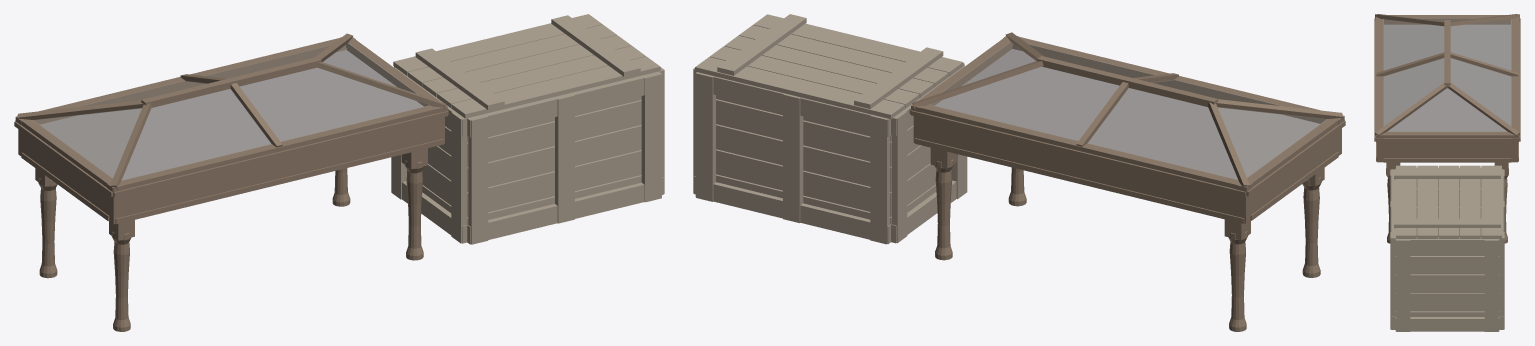
File: hp-crate-and-display-case.glb
3 views of the same model, side by side, from view 1: azimuth 30°, elevation 25°; view 2: azimuth 150°, elevation 25°; view 3: azimuth 270°, elevation 25° (orthographic). The views are drawn at different scales.
Visible parts, largest first — view 1: Case_Bed, Case_Apron_FB_-1, Case_Glass_Slope_-1_-1, Case_Glass_Slope_-1_+1, Case_Glass_End_-1, Crate_Board_B_3, Crate_Board_B_1, Crate_Board_B_2, Case_Eave_FB_-1, Crate_LidBoard_0, Crate_Batten_FB_Top_-1, Crate_Batten_FB_Bot_-1 (+37 smaller); view 2: Case_Bed, Case_Apron_FB_+1, Case_Glass_Slope_+1_-1, Case_Glass_Slope_+1_+1, Case_Glass_End_-1, Crate_Board_F_2, Crate_Board_F_3, Crate_Board_F_1, Case_Eave_FB_+1, Crate_LidBoard_4, Crate_Batten_FB_Bot_+1, Case_Eave_FB_-1 (+37 smaller); view 3: Case_Bed, Case_Glass_End_+1, Case_Glass_Slope_-1_-1, Case_Glass_Slope_+1_-1, Case_Apron_End_+1, Case_Glass_Slope_-1_+1, Case_Glass_Slope_+1_+1, Crate_Board_R_1, Crate_Board_R_2, Crate_Board_R_3, Crate_Batten_CnrEnd_+1_-1, Crate_Batten_CnrEnd_+1_+1 (+36 smaller).
Boxes of the visible parts, x1=… form: Case_Bed: x1=40, y1=50, x2=423, y2=180; Case_Apron_FB_-1: x1=110, y1=117, x2=444, y2=223; Case_Glass_Slope_-1_-1: x1=122, y1=89, x2=270, y2=179; Case_Glass_Slope_-1_+1: x1=241, y1=68, x2=428, y2=141; Case_Glass_End_-1: x1=34, y1=108, x2=141, y2=177; Crate_Board_B_3: x1=467, y1=100, x2=641, y2=167; Crate_Board_B_1: x1=467, y1=150, x2=641, y2=217; Crate_Board_B_2: x1=467, y1=125, x2=641, y2=192; Case_Eave_FB_-1: x1=107, y1=105, x2=447, y2=193; Crate_LidBoard_0: x1=451, y1=56, x2=660, y2=118; Crate_Batten_FB_Top_-1: x1=467, y1=71, x2=661, y2=137; Crate_Batten_FB_Bot_-1: x1=467, y1=180, x2=661, y2=244; Case_Bed: x1=935, y1=49, x2=1319, y2=179; Case_Apron_FB_+1: x1=913, y1=116, x2=1249, y2=223; Case_Glass_Slope_+1_-1: x1=1088, y1=88, x2=1237, y2=179; Case_Glass_Slope_+1_+1: x1=930, y1=67, x2=1118, y2=140; Case_Glass_End_-1: x1=1218, y1=107, x2=1326, y2=177; Crate_Board_F_2: x1=716, y1=124, x2=891, y2=191; Crate_Board_F_3: x1=716, y1=99, x2=891, y2=166; Crate_Board_F_1: x1=716, y1=149, x2=891, y2=216; Case_Eave_FB_+1: x1=911, y1=104, x2=1252, y2=192; Crate_LidBoard_4: x1=695, y1=57, x2=905, y2=119; Crate_Batten_FB_Bot_+1: x1=695, y1=180, x2=890, y2=243; Case_Eave_FB_-1: x1=1003, y1=36, x2=1344, y2=124; Case_Bed: x1=1384, y1=24, x2=1510, y2=131; Case_Glass_End_+1: x1=1388, y1=89, x2=1506, y2=131; Case_Glass_Slope_-1_-1: x1=1384, y1=20, x2=1443, y2=69; Case_Glass_Slope_+1_-1: x1=1451, y1=20, x2=1510, y2=69; Case_Apron_End_+1: x1=1382, y1=142, x2=1512, y2=162; Case_Glass_Slope_-1_+1: x1=1384, y1=58, x2=1443, y2=124; Case_Glass_Slope_+1_+1: x1=1451, y1=58, x2=1510, y2=124; Crate_Board_R_1: x1=1410, y1=293, x2=1484, y2=311; Crate_Board_R_2: x1=1410, y1=274, x2=1484, y2=292; Crate_Board_R_3: x1=1410, y1=256, x2=1484, y2=274; Crate_Batten_CnrEnd_+1_-1: x1=1396, y1=239, x2=1410, y2=331; Crate_Batten_CnrEnd_+1_+1: x1=1484, y1=239, x2=1498, y2=331.
Bounding box in the file's own units: 3.25 × 1.02 × 0.986.
